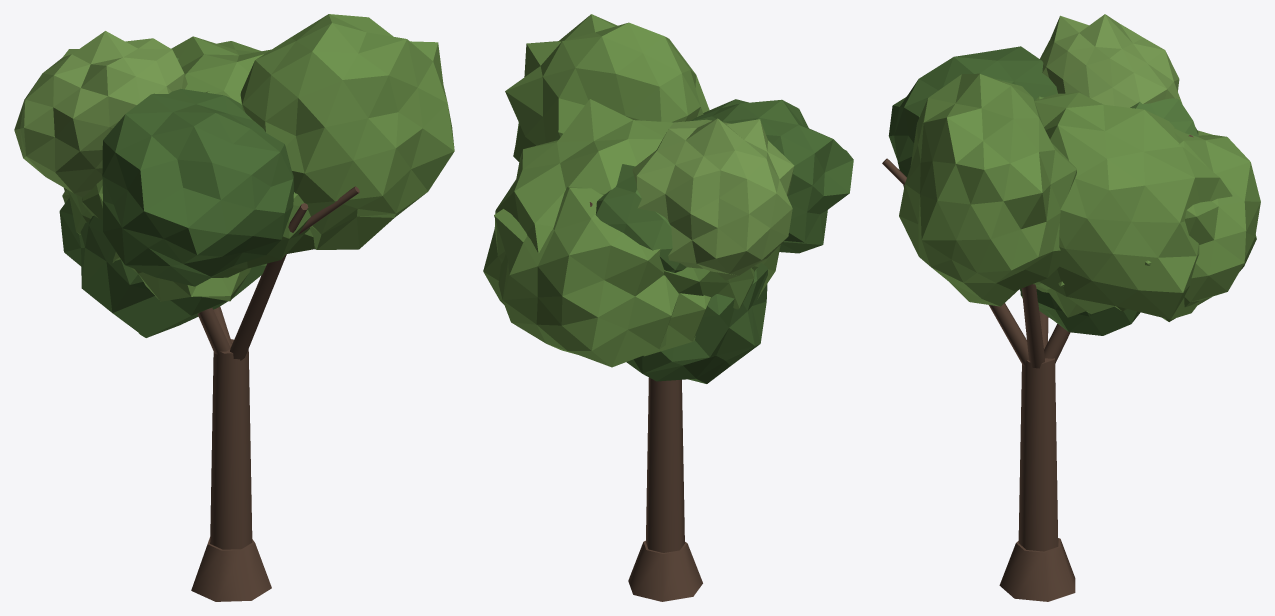
File: tree-broad-4.obj
The picture shows the model from 3 angles, left to right: view 1: azimuth 30°, elevation 25°; view 2: azimuth 150°, elevation 25°; view 3: azimuth 270°, elevation 25°; orthographic projection. The views are drawn at different scales.
Parts seen in each view (by area): view 1: part1; view 2: part1; view 3: part1.
Boxes of the visible parts, box(x1,y1,x2,y2) form: part1: box(14, 14, 454, 601); part1: box(483, 14, 853, 601); part1: box(882, 14, 1260, 601).
Size of the model in its own units: 5 by 7.68 by 4.84.
